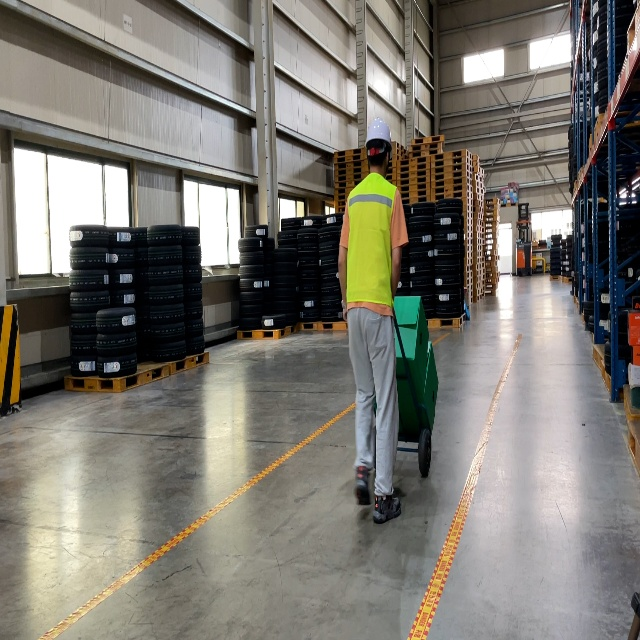Box: (373, 340, 439, 438)
Worker: (337, 115, 409, 525)
